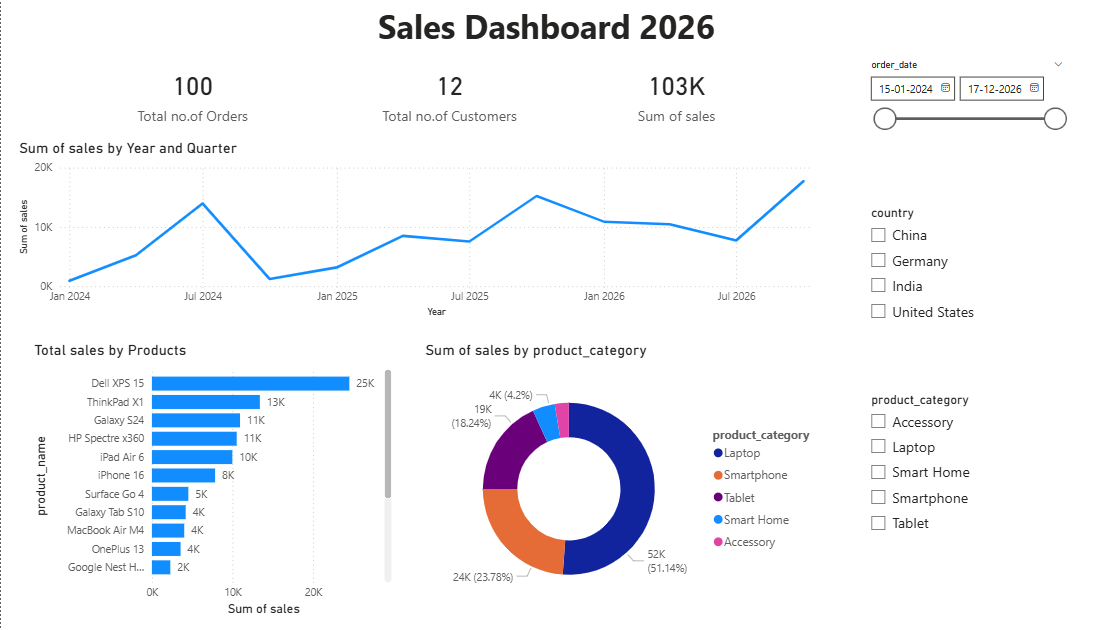

What the dashboard file says about the page in this screenshot:
{"tool":"powerbi","page":{"name":"Page 1","canvas":[1280,720],"ordinal":0},"visuals":[{"type":"barChart","title":"Total sales by Products","fields":{"Category":["orders.product_name"],"Y":["Sum(orders.sales)"]},"box":[32.9,390,418.6,318.6],"z":0},{"type":"donutChart","fields":{"Y":["Sum(orders.sales)"],"Category":["orders.product_category"]},"box":[480,390,464.3,318.6],"z":1000},{"type":"card","fields":{"Values":["CountNonNull(orders.order_id)"]},"box":[104.3,62.9,230,90],"z":2000},{"type":"card","fields":{"Values":["Count(orders.customer_id)"]},"box":[408.6,62.9,208.6,90],"z":3000},{"type":"card","fields":{"Values":["Sum(orders.sales)"]},"box":[664.3,62.9,215.7,90],"z":4000},{"type":"lineChart","fields":{"Category":["orders.order_date.Variation.Date Hierarchy.Year","orders.order_date.Variation.Date Hierarchy.Quarter","orders.order_date.Variation.Date Hierarchy.Month","orders.order_date.Variation.Date Hierarchy.Day"],"Y":["Sum(orders.sales)"]},"box":[15.7,158.6,928.6,208.6],"z":5000},{"type":"slicer","fields":{"Values":["customers.country"]},"box":[981.4,230,244.3,171.4],"z":6000},{"type":"slicer","fields":{"Values":["orders.product_category"]},"box":[981.4,442.9,244.3,238.6],"z":7000},{"type":"slicer","fields":{"Values":["orders.order_date"]},"box":[981.4,62.9,244.3,107.1],"z":8000},{"type":"textbox","box":[425.7,0,444.3,62.9],"z":8001}]}

Visuals, with their boxes in screenshot pixels (x1, y1, x2, y2), scaled from the page's 1280x720 canvas onto the 1120x630 screenshot:
"Total sales by Products" barChart: (x1=29, y1=341, x2=395, y2=620)
donutChart - Sum(orders.sales) x orders.product_category: (x1=420, y1=341, x2=826, y2=620)
card - CountNonNull(orders.order_id): (x1=91, y1=55, x2=293, y2=134)
card - Count(orders.customer_id): (x1=358, y1=55, x2=540, y2=134)
card - Sum(orders.sales): (x1=581, y1=55, x2=770, y2=134)
lineChart - orders.order_date.Variation.Date Hierarchy.Year x orders.order_date.Variation.Date Hierarchy.Quarter: (x1=14, y1=139, x2=826, y2=321)
slicer - customers.country: (x1=859, y1=201, x2=1072, y2=351)
slicer - orders.product_category: (x1=859, y1=388, x2=1072, y2=596)
slicer - orders.order_date: (x1=859, y1=55, x2=1072, y2=149)
textbox: (x1=372, y1=0, x2=761, y2=55)
